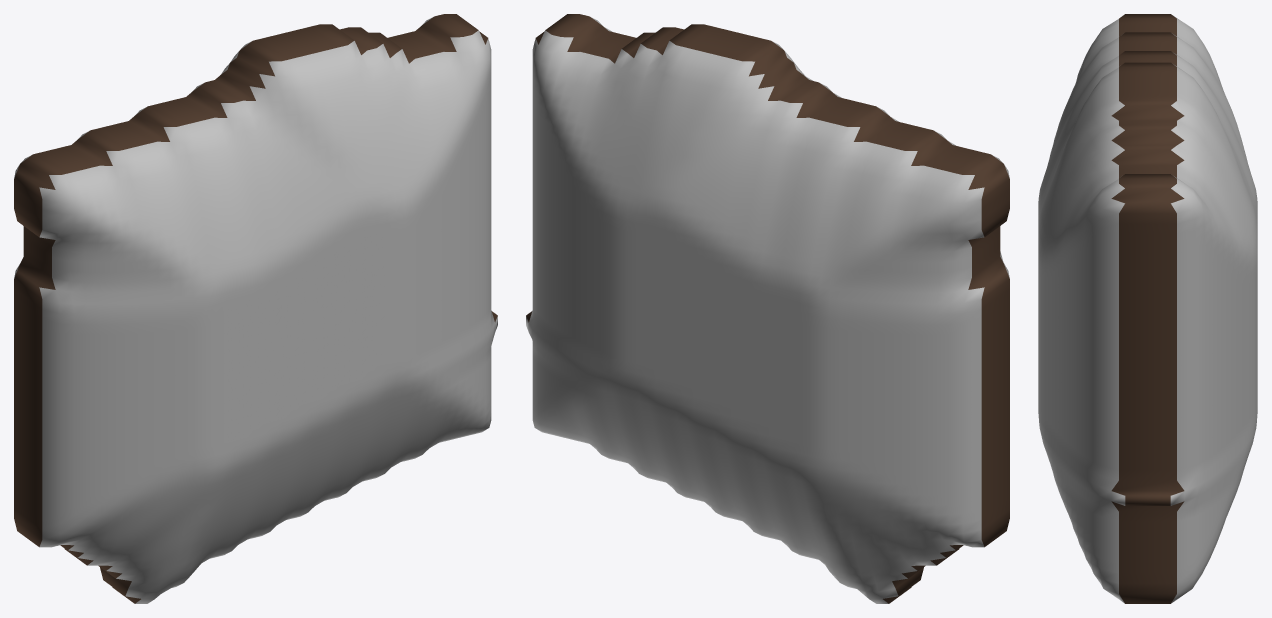
The model's file is puppet_theatre.glb.
The picture shows the model from 3 angles, left to right: view 1: azimuth 30°, elevation 25°; view 2: azimuth 150°, elevation 25°; view 3: azimuth 270°, elevation 25°; orthographic projection. The views are drawn at different scales.
Parts seen in each view (by area): view 1: puppet_theatre; view 2: puppet_theatre; view 3: puppet_theatre.
Boxes of the visible parts, x1,y1,x2,y2 form: puppet_theatre: (14,14,497,603); puppet_theatre: (526,14,1009,603); puppet_theatre: (1038,14,1257,603).
Size of the model in its own units: 0.9734 by 1.03 by 0.392.
